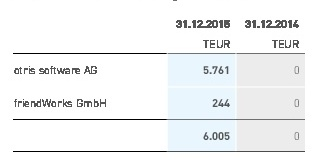table: (0, 0, 316, 163)
